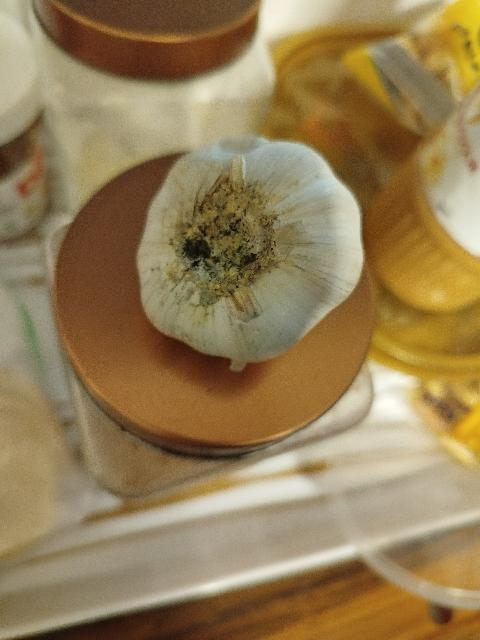garlic: (136, 134, 364, 372)
